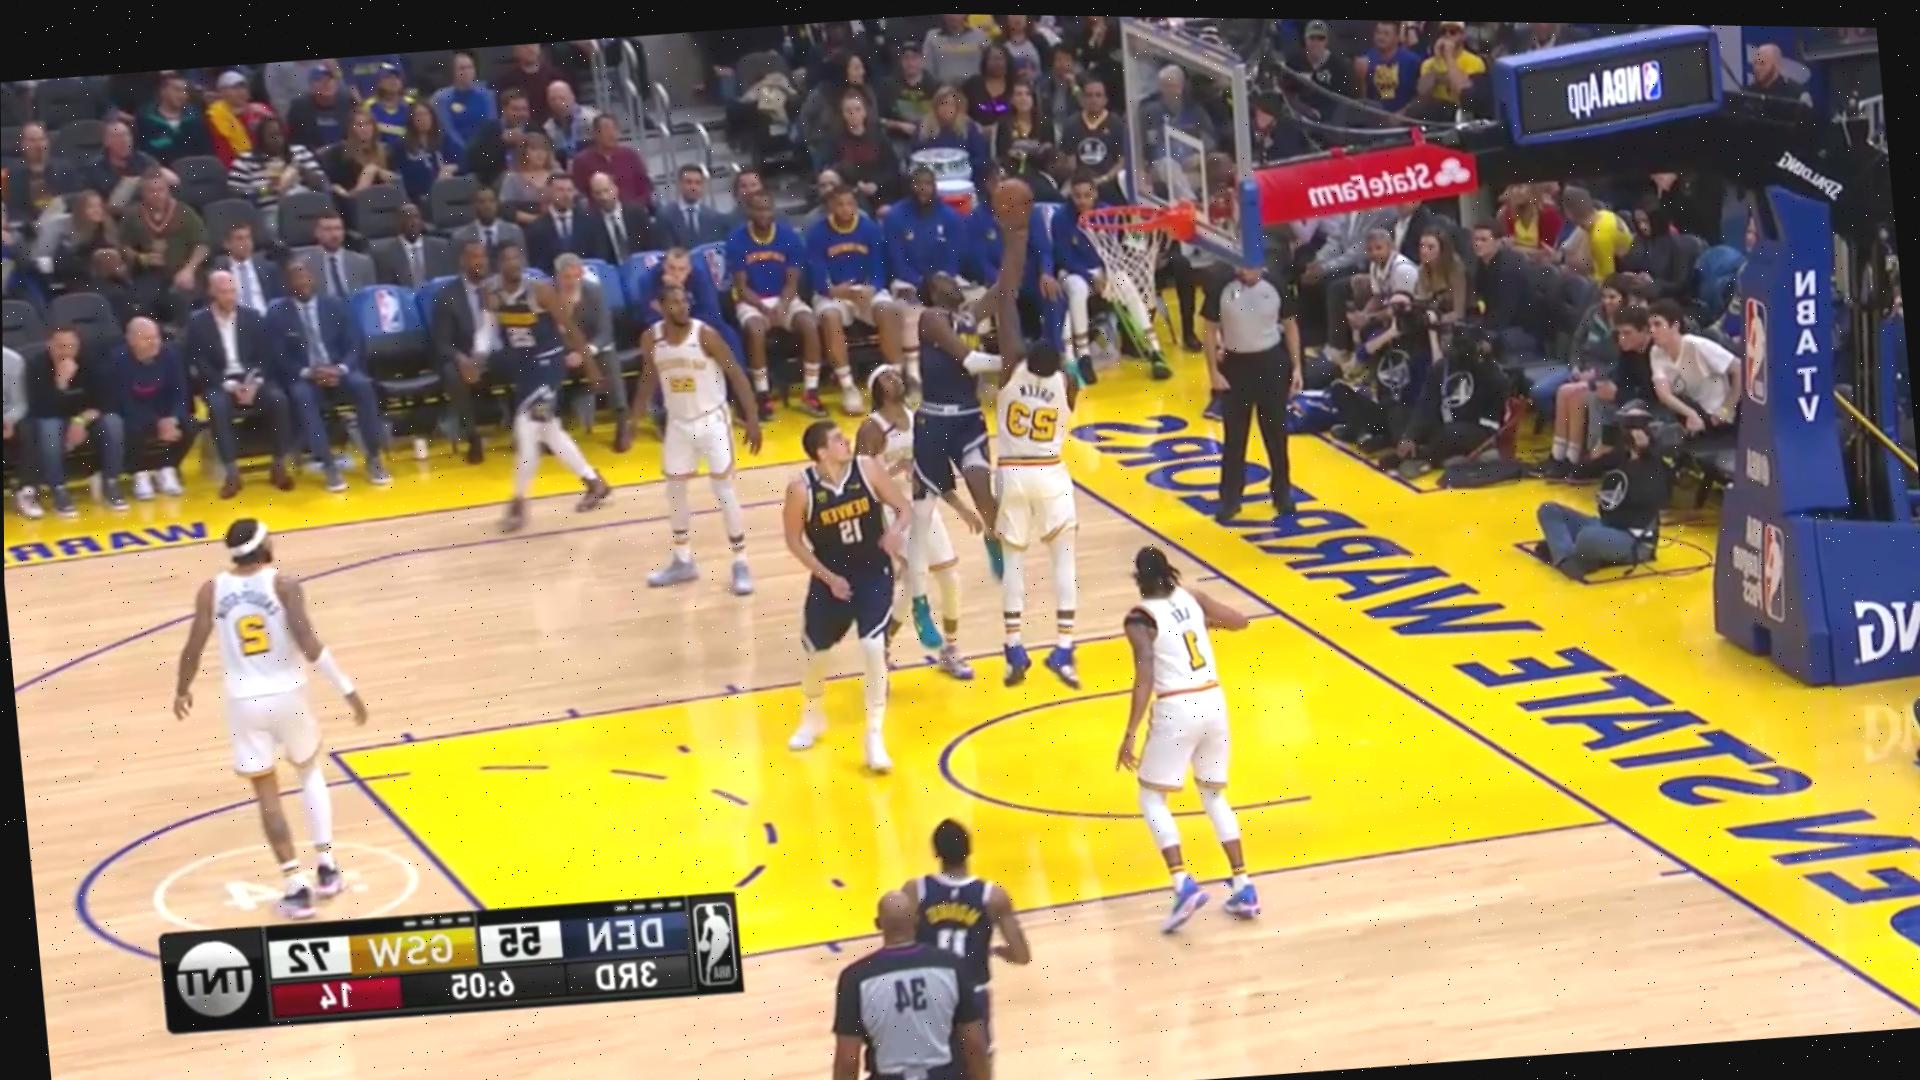foul: (903, 262, 1102, 629)
